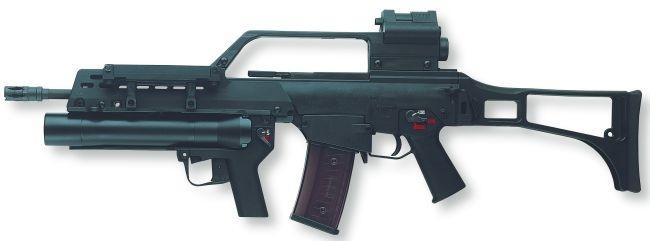blood: (1, 11, 650, 235)
